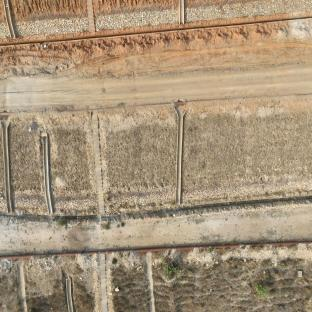rock_toe: (182, 177, 311, 203), (184, 0, 312, 24), (95, 6, 179, 30), (15, 17, 88, 36), (112, 191, 170, 207), (53, 195, 96, 211), (14, 194, 48, 211), (0, 23, 10, 38)
slope_drain: (1, 121, 13, 212), (175, 104, 185, 205), (42, 133, 53, 214), (146, 252, 157, 312), (17, 264, 28, 312), (3, 0, 16, 38), (66, 278, 73, 312), (179, 0, 184, 25)
toe_drain: (1, 14, 311, 50), (0, 195, 312, 218)
